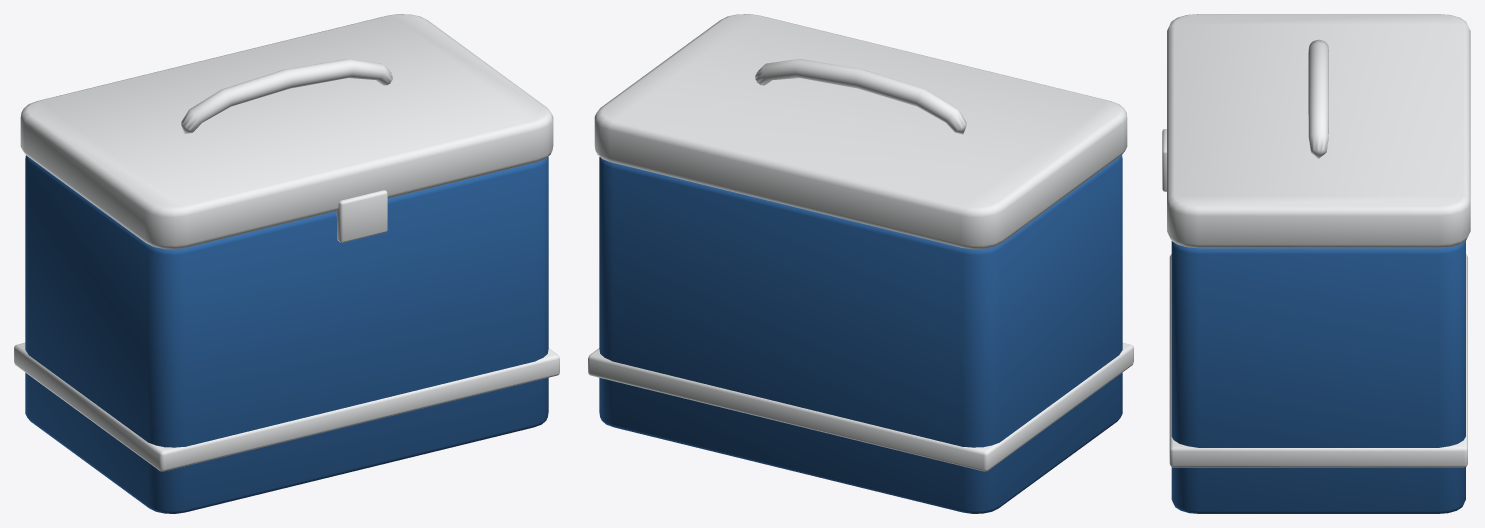
Rendered from prop_conservadora.glb.
3 views of the same model, side by side, from view 1: azimuth 30°, elevation 25°; view 2: azimuth 150°, elevation 25°; view 3: azimuth 270°, elevation 25° (orthographic).
Visible parts, largest first — view 1: prop_conservadora; view 2: prop_conservadora; view 3: prop_conservadora.
Boxes of the visible parts, left/top/right/bottom form: prop_conservadora: left=14, top=14, right=559, bottom=513; prop_conservadora: left=588, top=14, right=1133, bottom=513; prop_conservadora: left=1162, top=14, right=1470, bottom=513.
Bounding box in the file's own units: 0.51 × 0.4192 × 0.335.
